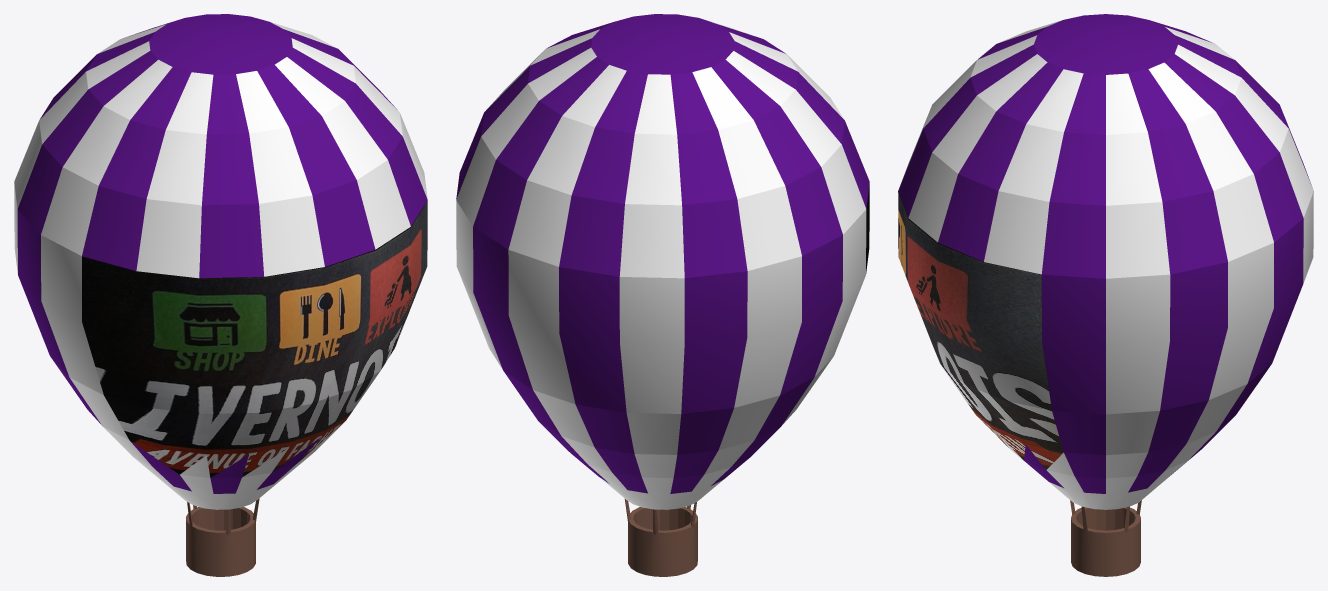
The model's file is balloon-label.glb.
3 views of the same model, side by side, from view 1: azimuth 30°, elevation 25°; view 2: azimuth 150°, elevation 25°; view 3: azimuth 270°, elevation 25° (orthographic).
Parts seen in each view (by area): view 1: pSphere16; view 2: pSphere16; view 3: pSphere16.
Part boxes in pixels (left/top/right/bottom): pSphere16: left=14, top=14, right=427, bottom=576; pSphere16: left=456, top=14, right=869, bottom=576; pSphere16: left=898, top=14, right=1313, bottom=576.
Size of the model in its own units: 6.96 by 9.77 by 6.96.
4 materials, 1 textured.
